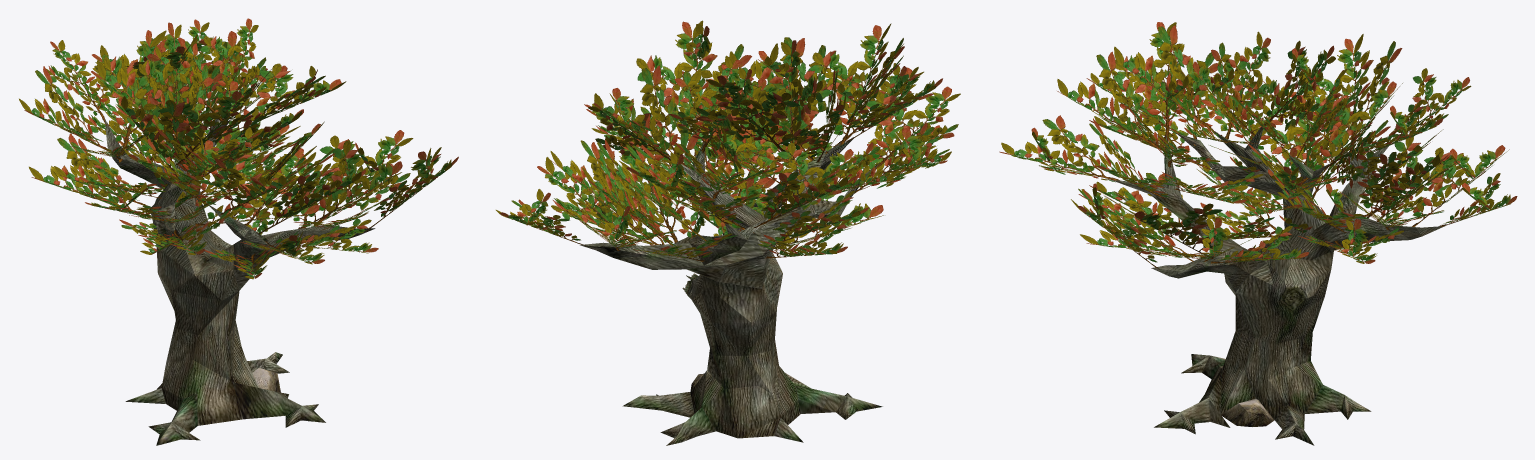
Rendered from oak.obj.
The picture shows the model from 3 angles, left to right: view 1: azimuth 30°, elevation 25°; view 2: azimuth 150°, elevation 25°; view 3: azimuth 270°, elevation 25°; orthographic projection. The views are drawn at different scales.
Bounding box in the file's own units: 212 × 207 × 282.
2 materials, 2 textured.
